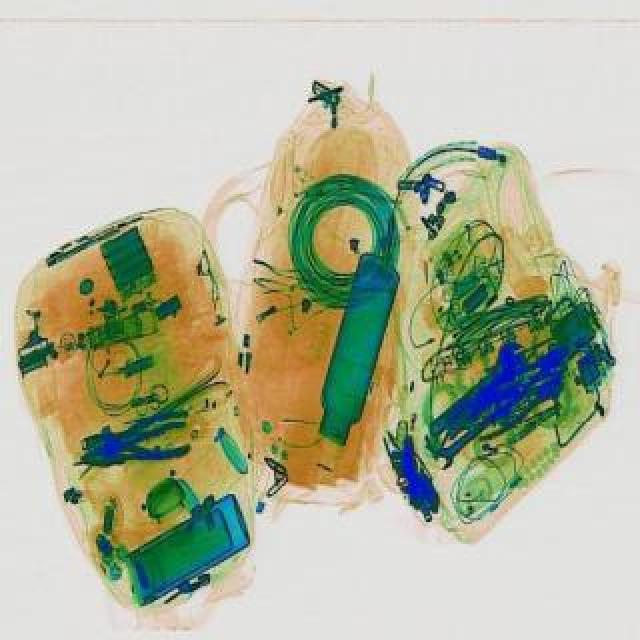scissors: (418, 334, 534, 440), (426, 406, 500, 472)
wrench: (464, 330, 578, 422), (76, 416, 192, 474)
